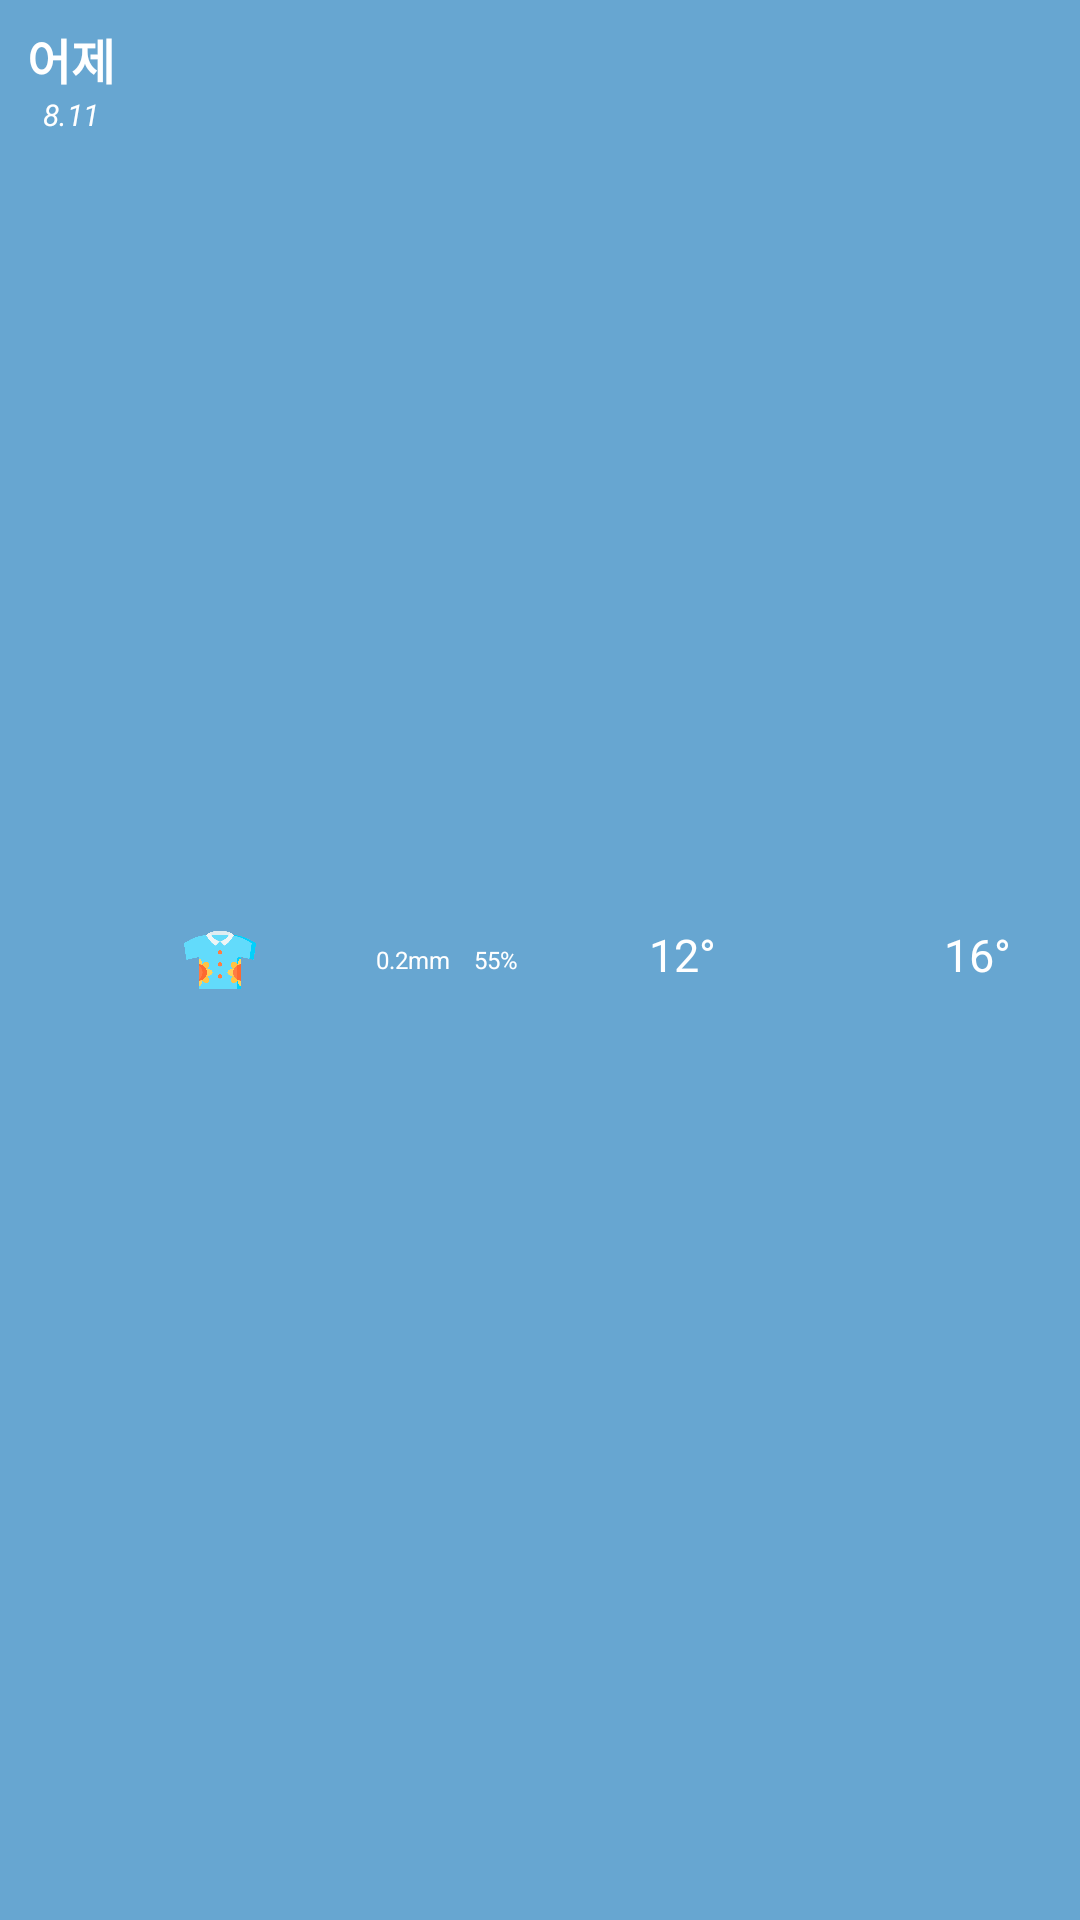

Icons on this 1080×1920 Android screen, each with its box as (x1, y1, x2, y2):
clothing hawaiianshirt: (184, 931, 256, 989)
